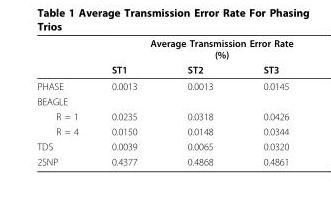table: (36, 37, 292, 166)
table column: (161, 37, 237, 166), (94, 37, 161, 166), (36, 37, 94, 166), (237, 37, 292, 166)
table column header: (36, 37, 292, 77)
table projected row header: (36, 93, 292, 108)
table row: (36, 37, 292, 61), (36, 61, 292, 77), (36, 77, 292, 93), (36, 93, 292, 108), (36, 108, 292, 123), (36, 123, 292, 138), (36, 138, 292, 153), (36, 153, 292, 166)
table spanning cell: (94, 37, 292, 61)
